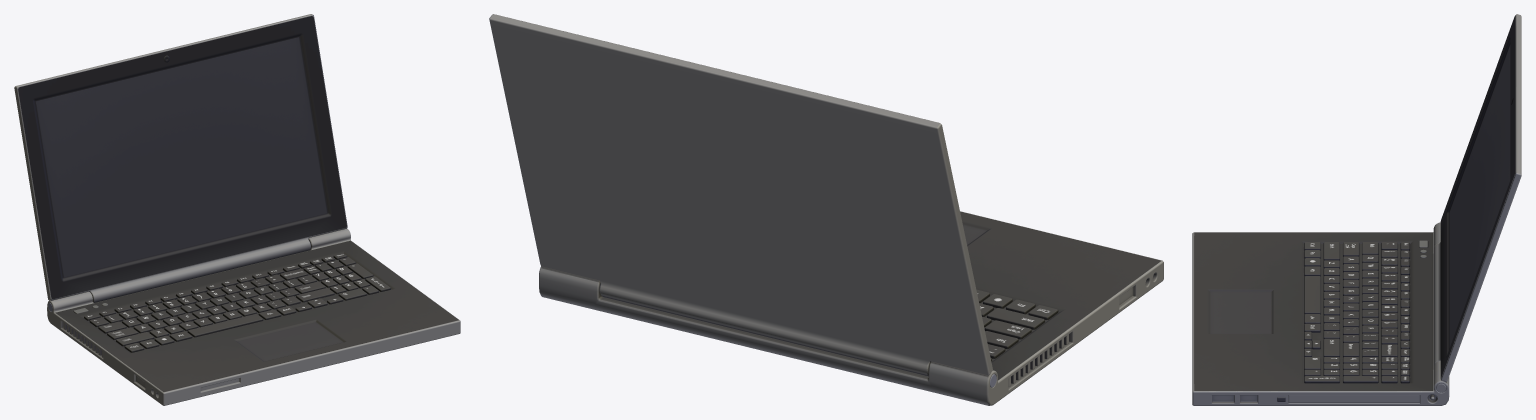
The model's file is Ordinateur portable.glb.
3 renders of one model, left to right at view 1: azimuth 30°, elevation 25°; view 2: azimuth 150°, elevation 25°; view 3: azimuth 270°, elevation 25°, orthographic. The views are drawn at different scales.
Parts seen in each view (by area): view 1: laptop.1; view 2: laptop.1; view 3: laptop.1.
Boxes of the visible parts, x1,y1,x2,y2 form: laptop.1: [14, 14, 460, 405]; laptop.1: [489, 14, 1163, 405]; laptop.1: [1192, 14, 1521, 405].
Bounding box in the file's own units: 0.5075 × 0.3461 × 0.4409.
Materials: 1 (1 with a texture image).
